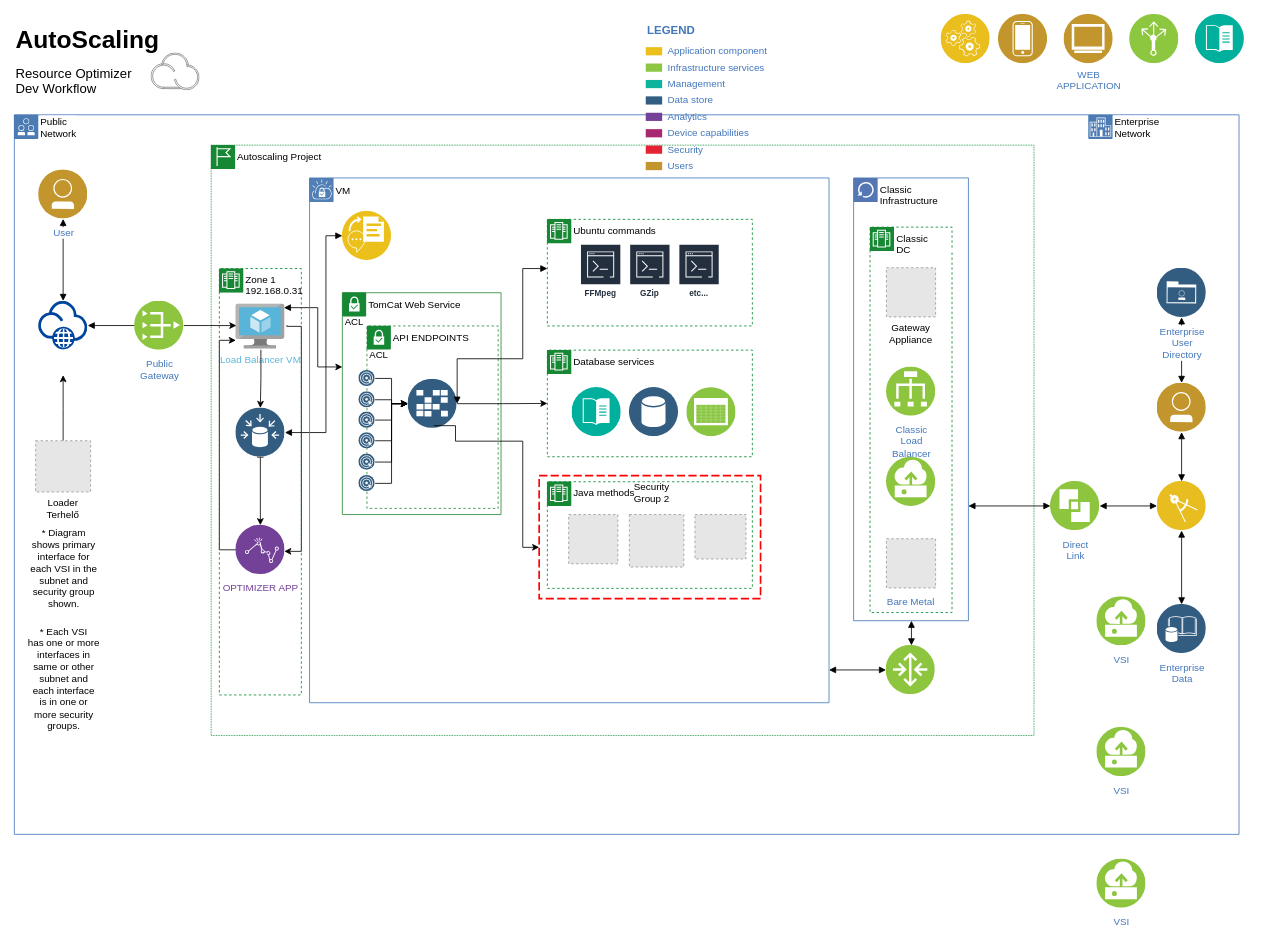
This 1263x941 diagram has some shape labels left out. Grey dashed boxes stand in for pictures. Here are the shapes that lost their labels. From the top down, the centre of each, then its label:
At point (965, 38): "RUNTIME".
At point (1022, 38): "DEVICES".
At point (1153, 38): "ROUTING SERVICES".
At point (1219, 38): "CONTAINER CATALOG".
At point (366, 235): "System Metric Logger".
At point (62, 325): "Internet".
At point (432, 403): "JAVA SPRING WEB SERVICE".
At point (596, 411): "MongoDB".
At point (653, 411): "Postgre".
At point (711, 411): "MySQL".
At point (1181, 407): "Enterprise User".
At point (260, 432): "METRICS COLLECTOR".
At point (910, 481): "Classic VSI".
At point (1181, 505): "Enterprise Applications".
At point (910, 669): "Implicit Route".
